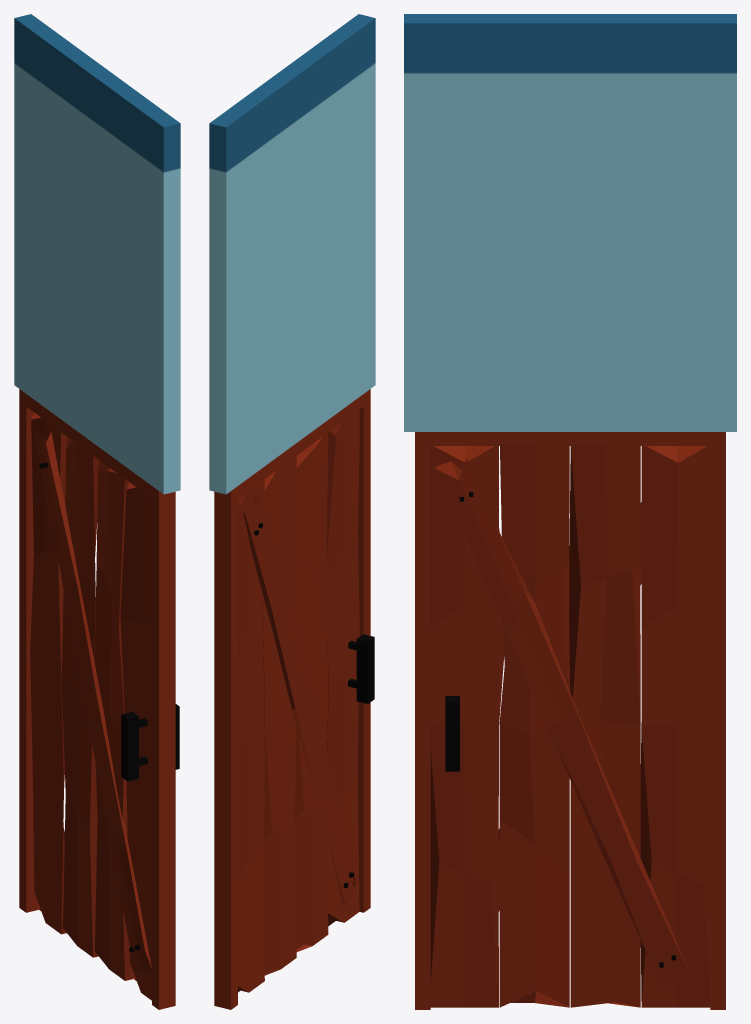
Rendered from PoorDoor.fbx.
3 views of the same model, side by side, from view 1: azimuth 30°, elevation 25°; view 2: azimuth 150°, elevation 25°; view 3: azimuth 270°, elevation 25° (orthographic). The views are drawn at different scales.
Visible parts, largest first — view 1: Wall, Door; view 2: Wall, Door; view 3: Wall, Door.
Boxes of the visible parts, x1=… form: Wall: x1=14, y1=14, x2=180, y2=1009; Door: x1=30, y1=413, x2=179, y2=1000; Wall: x1=209, y1=14, x2=375, y2=1009; Door: x1=238, y1=410, x2=374, y2=992; Wall: x1=404, y1=14, x2=736, y2=1009; Door: x1=430, y1=446, x2=710, y2=1007.
Bounding box in the file's own units: 21.48 × 350 × 107.
